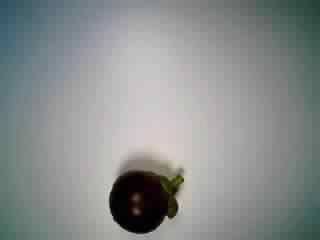mangosteen: (107, 160, 184, 235)
